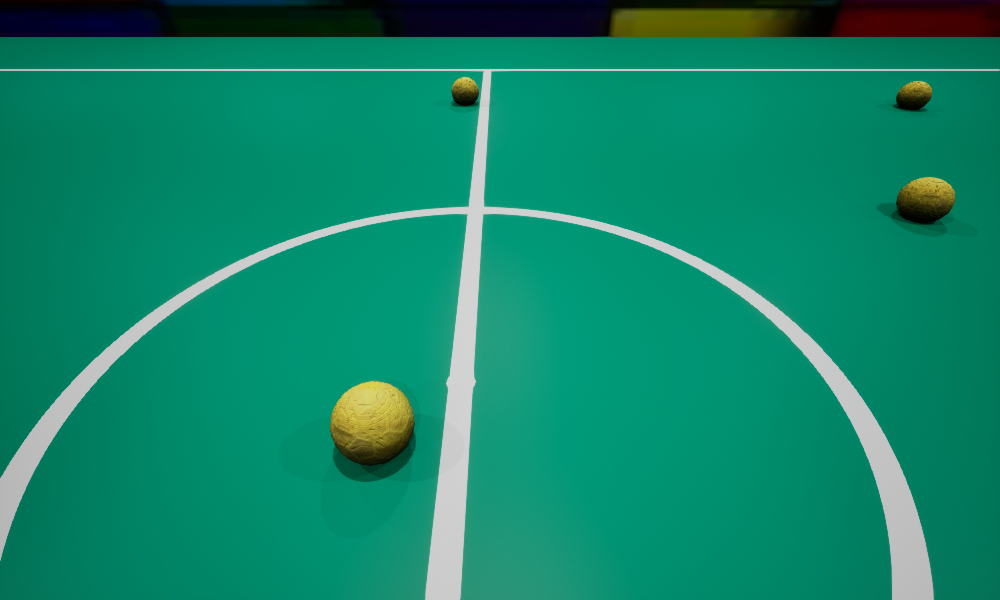b: (330, 381, 414, 465), (896, 177, 955, 222), (896, 81, 931, 109), (451, 77, 478, 104)
